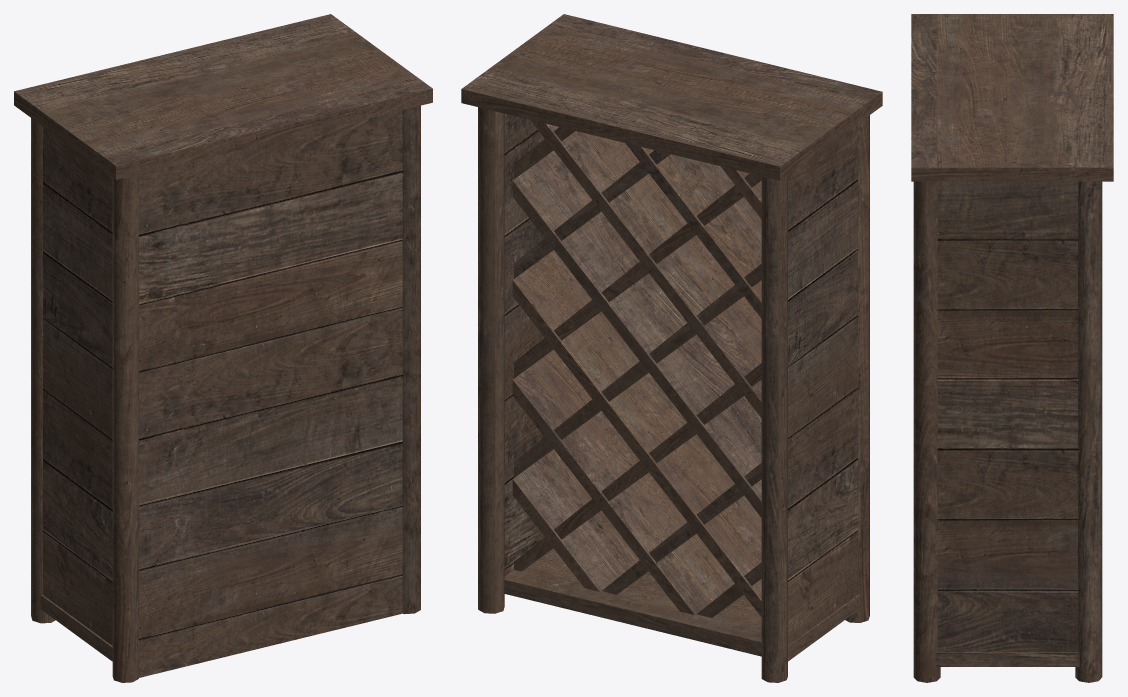
File: mw_mead_rack_01.FBX
3 views of the same model, side by side, from view 1: azimuth 30°, elevation 25°; view 2: azimuth 150°, elevation 25°; view 3: azimuth 270°, elevation 25° (orthographic).
Parts seen in each view (by area): view 1: mw_mead_rack_01; view 2: mw_mead_rack_01; view 3: mw_mead_rack_01.
Boxes of the visible parts, x1,y1,x2,y2 form: mw_mead_rack_01: [14, 14, 432, 682]; mw_mead_rack_01: [461, 14, 882, 682]; mw_mead_rack_01: [911, 14, 1113, 682].
Bounding box in the file's own units: 122 × 192 × 68.05.
